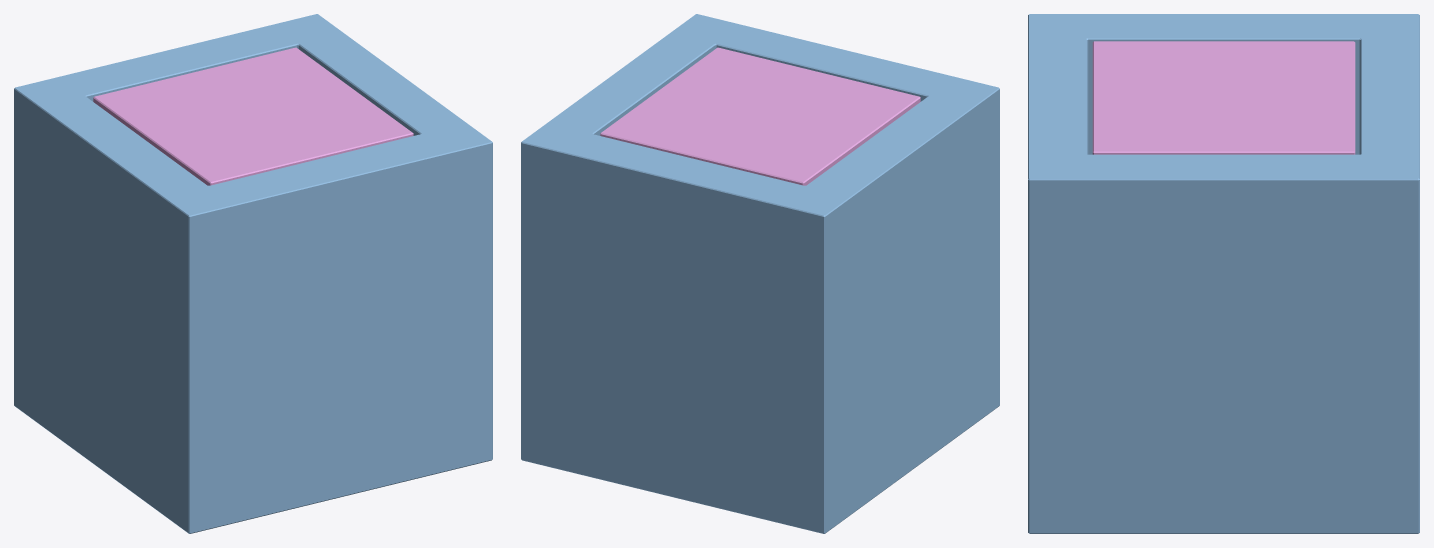
The model's file is BoxAnimated.gltf.
The picture shows the model from 3 angles, left to right: view 1: azimuth 30°, elevation 25°; view 2: azimuth 150°, elevation 25°; view 3: azimuth 270°, elevation 25°; orthographic projection. The views are drawn at different scales.
Visible parts, largest first — view 1: outer_box, inner_box; view 2: outer_box, inner_box; view 3: outer_box, inner_box.
Boxes of the visible parts, x1,y1,x2,y2 form: outer_box: (14, 14, 492, 533); inner_box: (93, 47, 413, 185); outer_box: (521, 14, 999, 533); inner_box: (600, 47, 920, 185); outer_box: (1028, 14, 1419, 533); inner_box: (1092, 41, 1355, 154).
Size of the model in its own units: 1 by 1 by 1.
